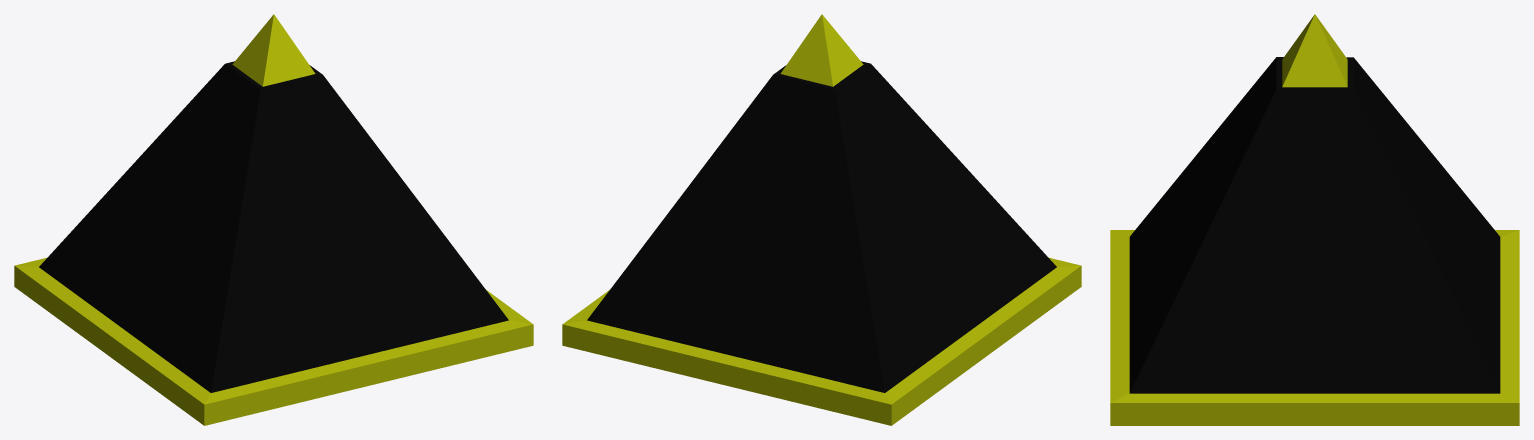
Rendered from dark_pyramid.gltf.
The picture shows the model from 3 angles, left to right: view 1: azimuth 30°, elevation 25°; view 2: azimuth 150°, elevation 25°; view 3: azimuth 270°, elevation 25°; orthographic projection. The views are drawn at different scales.
Visible parts, largest first — view 1: Base, Tip; view 2: Base, Tip; view 3: Base, Tip.
Boxes of the visible parts, bbox=[...] form: Base: bbox=[14, 61, 533, 425]; Tip: bbox=[232, 14, 315, 86]; Base: bbox=[562, 61, 1081, 425]; Tip: bbox=[780, 14, 863, 86]; Base: bbox=[1110, 57, 1519, 425]; Tip: bbox=[1282, 14, 1347, 87].
Size of the model in its own units: 2.21 by 1.94 by 2.21.
